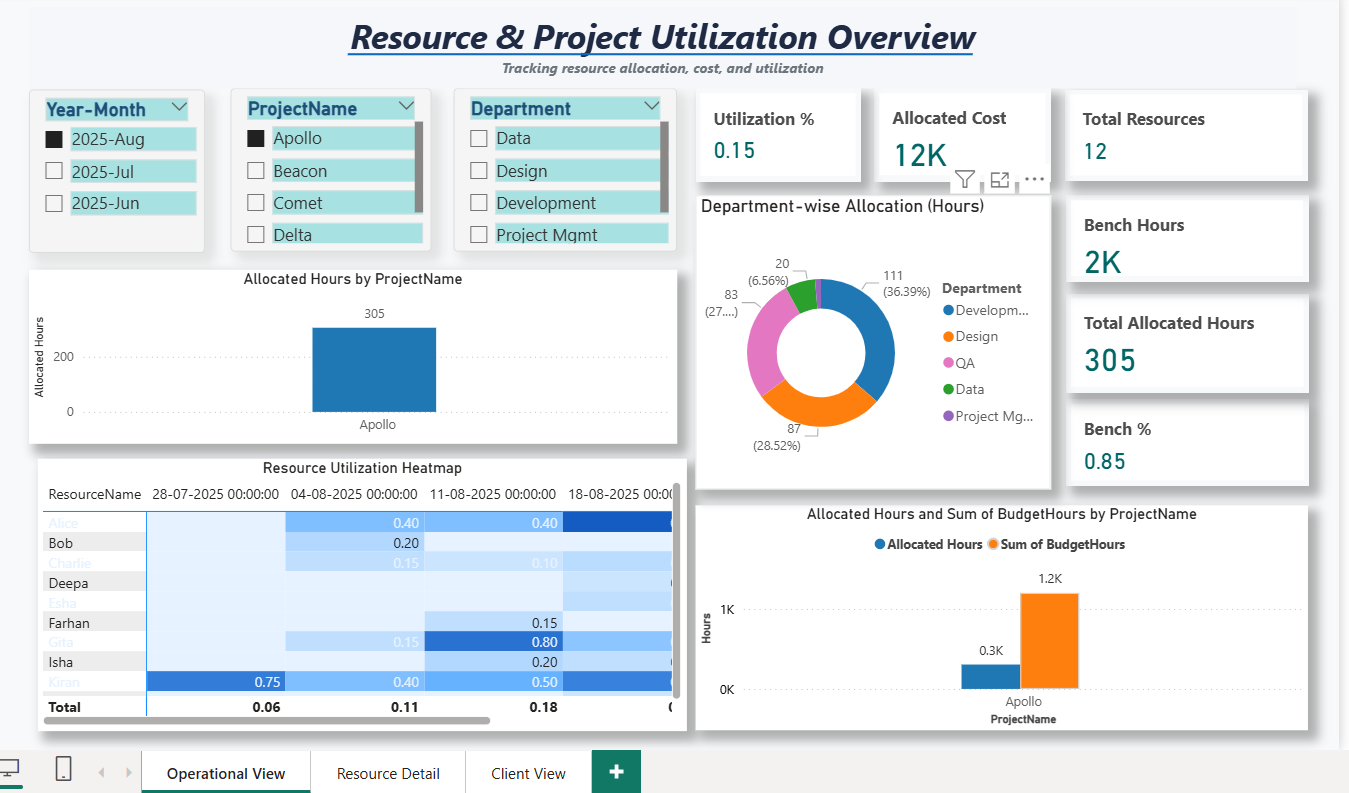

The dashboard page shown, as its layout file describes it:
{"tool":"powerbi","page":{"name":"Operational View","canvas":[1280,720],"ordinal":0},"visuals":[{"type":"slicer","fields":{"Values":["Date.Year-Month"]},"box":[32.9,90,167.1,155.7],"z":0},{"type":"slicer","fields":{"Values":["Projects.ProjectName"]},"box":[224.3,88.6,191.4,155.7],"z":1000},{"type":"slicer","fields":{"Values":["Resources.Department"]},"box":[437.1,88.6,212.9,155.7],"z":2000},{"type":"cardVisual","fields":{"Data":["Allocation.Utilization %"]},"box":[667.1,88.6,157.1,88.6],"z":3000},{"type":"cardVisual","fields":{"Data":["Allocation.Total Resources"]},"box":[1019,90,231.6,87.6],"z":4000},{"type":"cardVisual","fields":{"Data":["Allocation.Bench %"]},"box":[1020,385.7,232.1,82.9],"z":5000},{"type":"clusteredColumnChart","fields":{"Category":["Projects.ProjectName"],"Y":["Allocation.Allocated Hours"]},"box":[32.9,261.4,617.1,165.7],"z":6000},{"type":"pivotTable","title":"Resource Utilization Heatmap","fields":{"Rows":["Resources.ResourceName"],"Columns":["Date.Week Start"],"Values":["Allocation.Utilization %"]},"box":[40.8,441.7,618.1,259.2],"z":7000},{"type":"clusteredColumnChart","fields":{"Category":["Projects.ProjectName"],"Y":["Allocation.Allocated Hours","Projects.BudgetHours"]},"box":[667.7,485.7,583.7,214.3],"z":8000},{"type":"cardVisual","fields":{"Data":["Allocation.Total Allocated Hours"]},"box":[1020,284.3,231.4,94.3],"z":9000},{"type":"cardVisual","fields":{"Data":["Allocation.Bench Hours"]},"box":[1020,191.4,231.4,82.9],"z":10000},{"type":"cardVisual","fields":{"Data":["Allocation.Allocated Cost"]},"box":[837.1,88.6,168.6,88.6],"z":11000},{"type":"donutChart","title":"Department-wise Allocation (Hours)","fields":{"Category":["Resources.Department"],"Y":["Allocation.Allocated Hours"]},"box":[667.1,191.4,338.6,280],"z":12000},{"type":"textbox","box":[32.9,11.4,1207.1,77.1],"z":13000},{"type":"shape","box":[336.1,49.2,595.3,14.4],"z":14000}]}

Visuals, with their boxes on the page's 1280x720 design canvas (x1, y1, x2, y2). These are canvas units, not pixel positions in the 1349x793 screenshot, which may show the page scaled, cropped or inside an application window:
slicer - Date.Year-Month: x1=33, y1=90, x2=200, y2=246
slicer - Projects.ProjectName: x1=224, y1=89, x2=416, y2=244
slicer - Resources.Department: x1=437, y1=89, x2=650, y2=244
cardVisual - Allocation.Utilization %: x1=667, y1=89, x2=824, y2=177
cardVisual - Allocation.Total Resources: x1=1019, y1=90, x2=1251, y2=178
cardVisual - Allocation.Bench %: x1=1020, y1=386, x2=1252, y2=469
clusteredColumnChart - Projects.ProjectName x Allocation.Allocated Hours: x1=33, y1=261, x2=650, y2=427
"Resource Utilization Heatmap" pivotTable: x1=41, y1=442, x2=659, y2=701
clusteredColumnChart - Projects.ProjectName x Allocation.Allocated Hours: x1=668, y1=486, x2=1251, y2=700
cardVisual - Allocation.Total Allocated Hours: x1=1020, y1=284, x2=1251, y2=379
cardVisual - Allocation.Bench Hours: x1=1020, y1=191, x2=1251, y2=274
cardVisual - Allocation.Allocated Cost: x1=837, y1=89, x2=1006, y2=177
"Department-wise Allocation (Hours)" donutChart: x1=667, y1=191, x2=1006, y2=471
textbox: x1=33, y1=11, x2=1240, y2=88
shape: x1=336, y1=49, x2=931, y2=64
